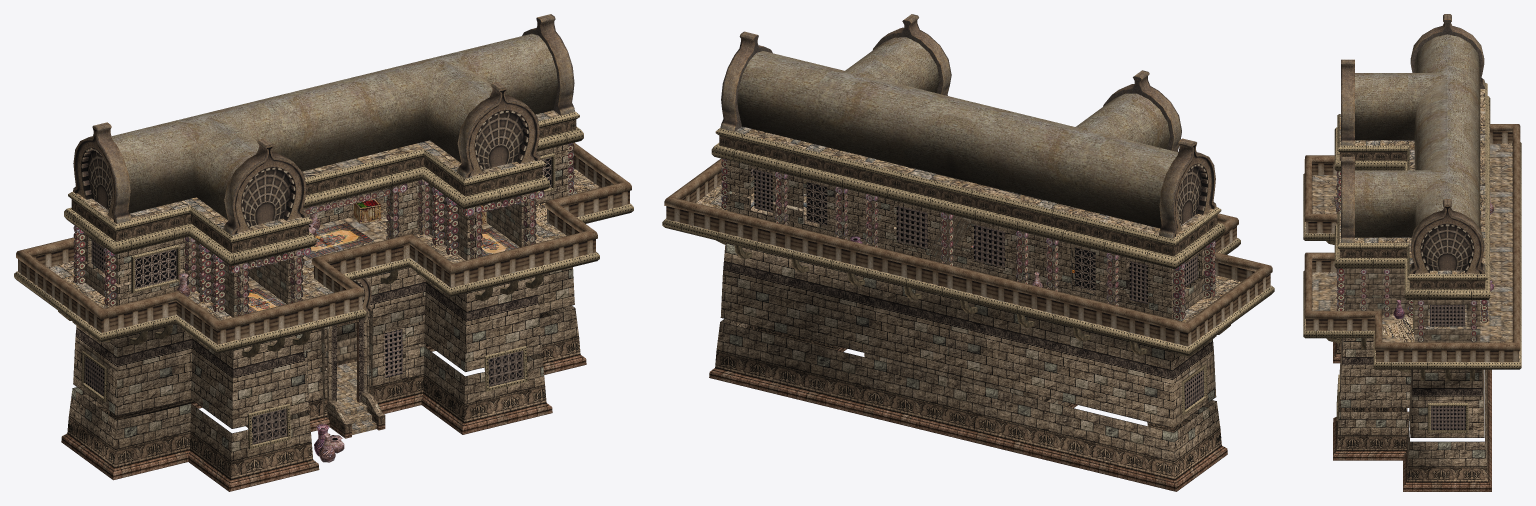
Rendered from maur_misc_01.dae.
3 renders of one model, left to right at view 1: azimuth 30°, elevation 25°; view 2: azimuth 150°, elevation 25°; view 3: azimuth 270°, elevation 25°, orthographic. The views are drawn at different scales.
Visible parts, largest first — view 1: maur_civic_centre; view 2: maur_civic_centre; view 3: maur_civic_centre.
Part boxes in pixels (x1=…): maur_civic_centre: x1=14, y1=14, x2=633, y2=491; maur_civic_centre: x1=662, y1=14, x2=1274, y2=491; maur_civic_centre: x1=1303, y1=14, x2=1521, y2=491.
Bounding box in the file's own units: 39.53 × 23.56 × 16.38.
